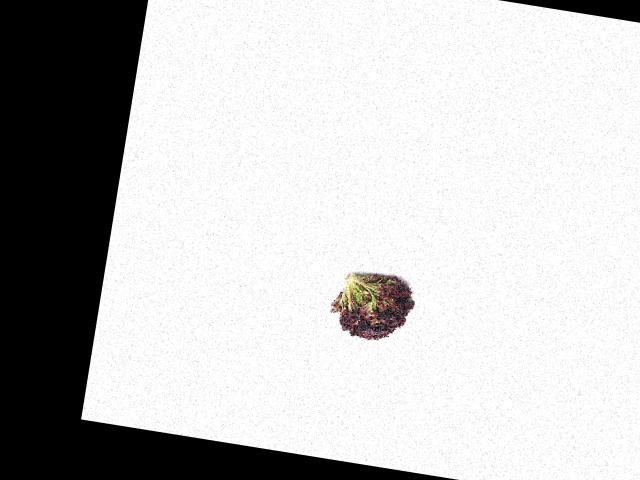lettuce: (330, 263, 422, 349)
